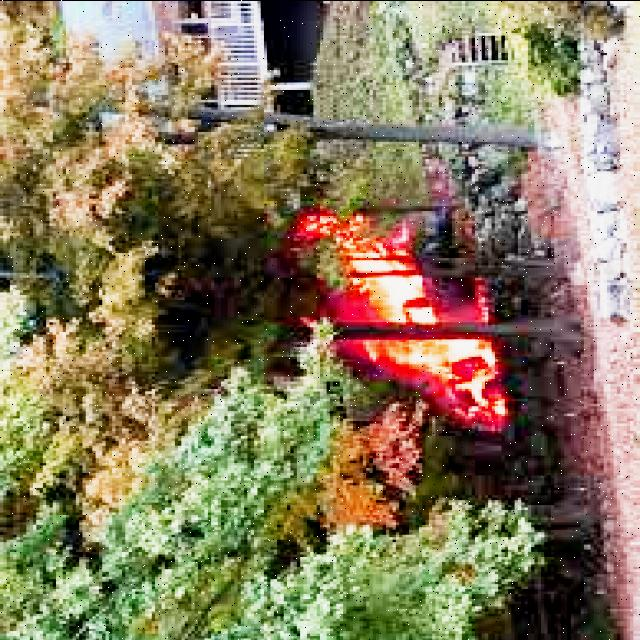api: (288, 204, 526, 436)
